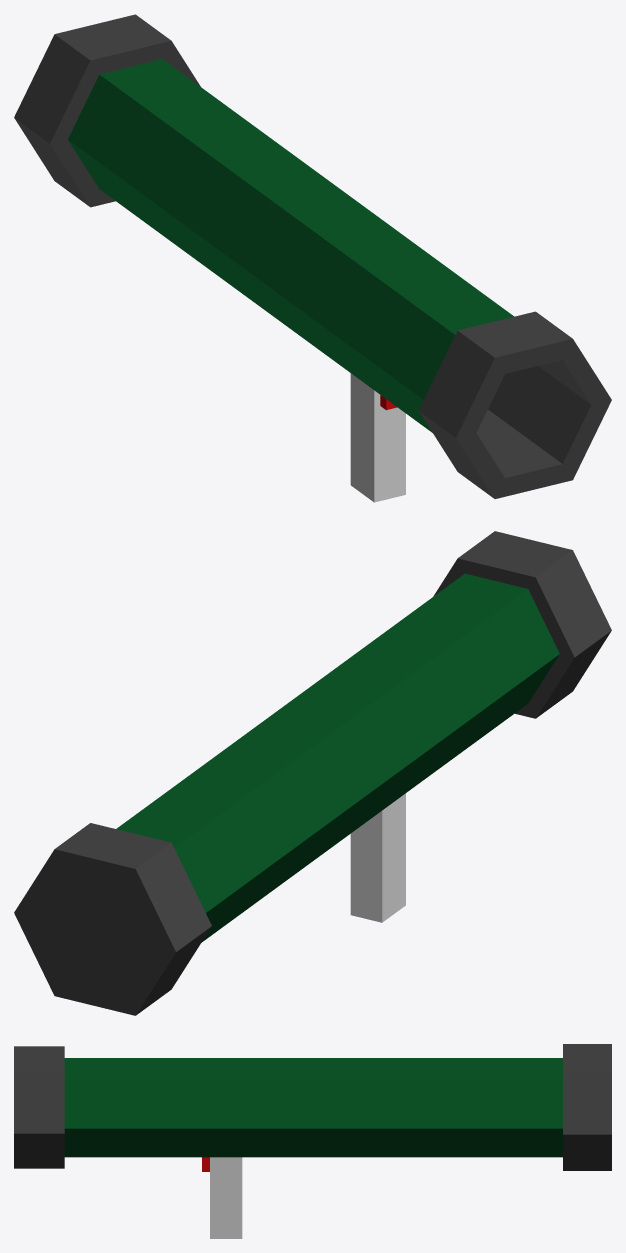
File: bazookaz.fbx
The picture shows the model from 3 angles, top to bottom: view 1: azimuth 30°, elevation 25°; view 2: azimuth 150°, elevation 25°; view 3: azimuth 270°, elevation 25°; orthographic projection. The views are drawn at different scales.
Visible parts, largest first — view 1: Circle; view 2: Circle; view 3: Circle.
Part boxes in pixels (bbox=[...]): Circle: bbox=[14, 14, 611, 502]; Circle: bbox=[14, 531, 611, 1015]; Circle: bbox=[14, 1044, 611, 1238].
Bounding box in the file's own units: 56.01 × 85.32 × 263.
